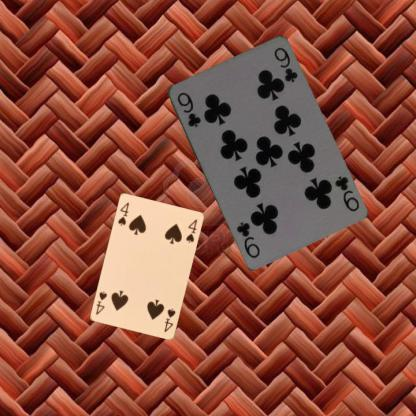4s: (162, 306, 177, 334), (116, 200, 130, 227)
9c: (332, 172, 361, 212), (174, 89, 202, 129)
